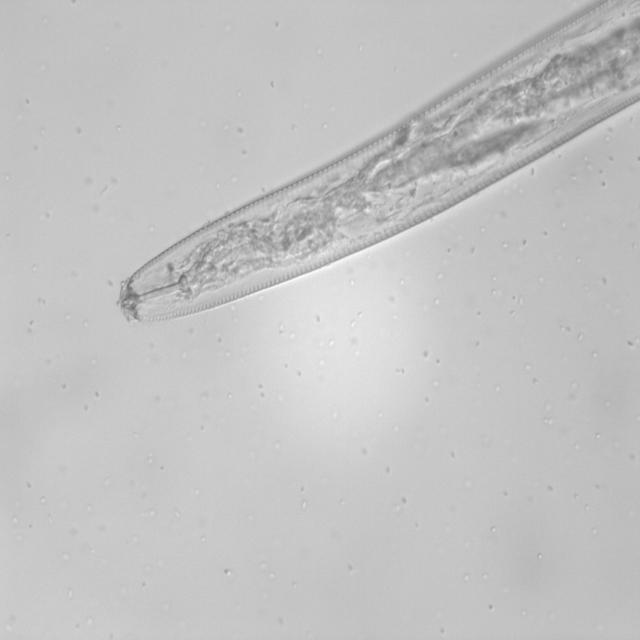Radopholus: (112, 0, 640, 339)
